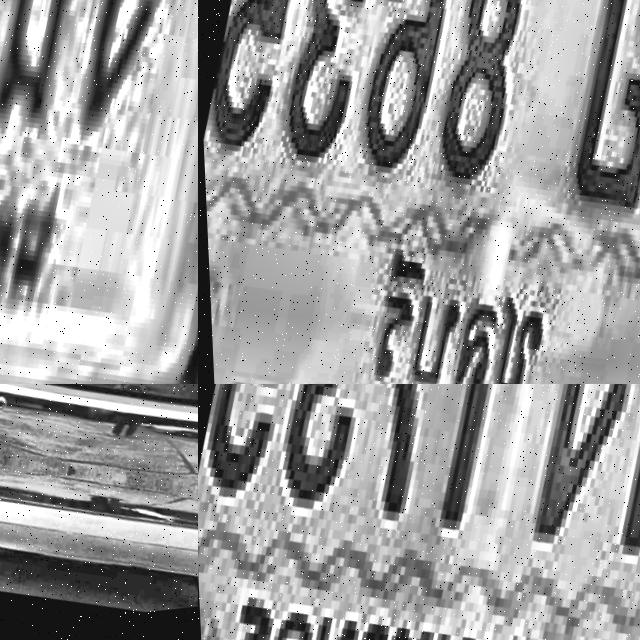license-plate: (198, 0, 640, 384), (198, 384, 640, 640), (0, 0, 198, 384)
